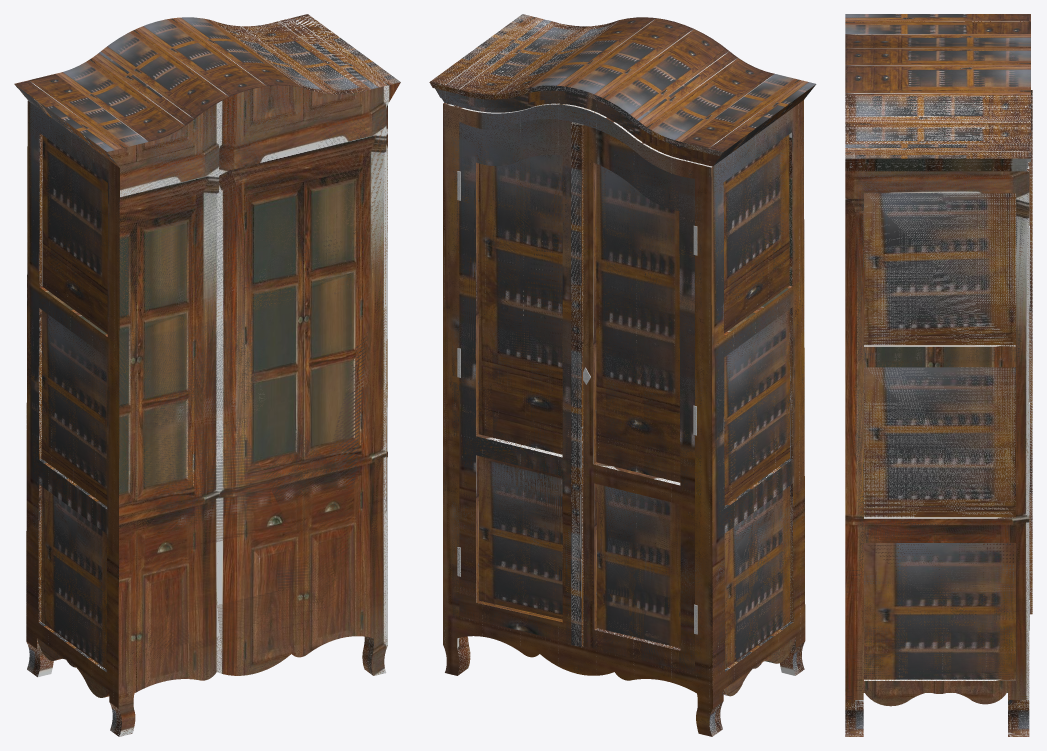
3 views of the same model, side by side, from view 1: azimuth 30°, elevation 25°; view 2: azimuth 150°, elevation 25°; view 3: azimuth 270°, elevation 25° (orthographic).
Visible parts, largest first — view 1: mesh1_mesh1-geometry; view 2: mesh1_mesh1-geometry; view 3: mesh1_mesh1-geometry.
Boxes of the visible parts, x1,y1,x2,y2 form: mesh1_mesh1-geometry: (14,14,400,736); mesh1_mesh1-geometry: (429,14,816,736); mesh1_mesh1-geometry: (845,14,1032,736).
Size of the model in its own units: 0.4332 by 0.8688 by 0.2399.
